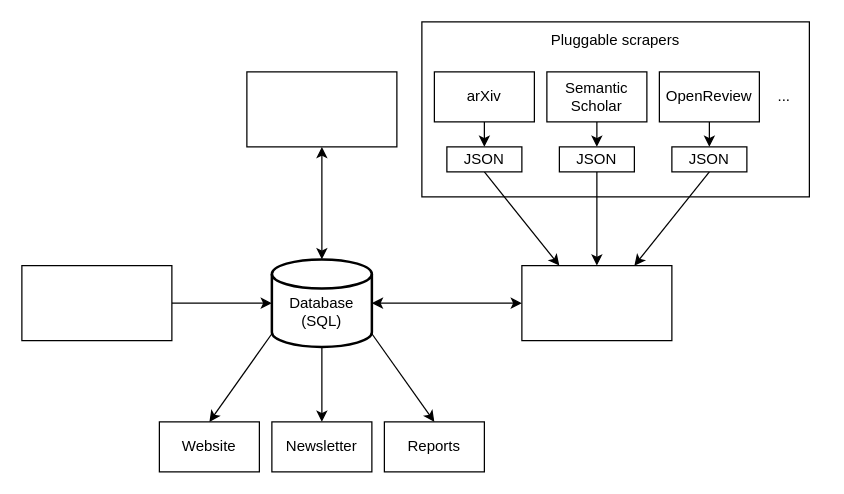
This 844x494 diagram has some shape labels left out. Each missing label, with the box of its shape:
Aggregation: (521, 264, 672, 341)
Researcher information: (21, 264, 172, 341)
Web frontend: (246, 71, 397, 147)
